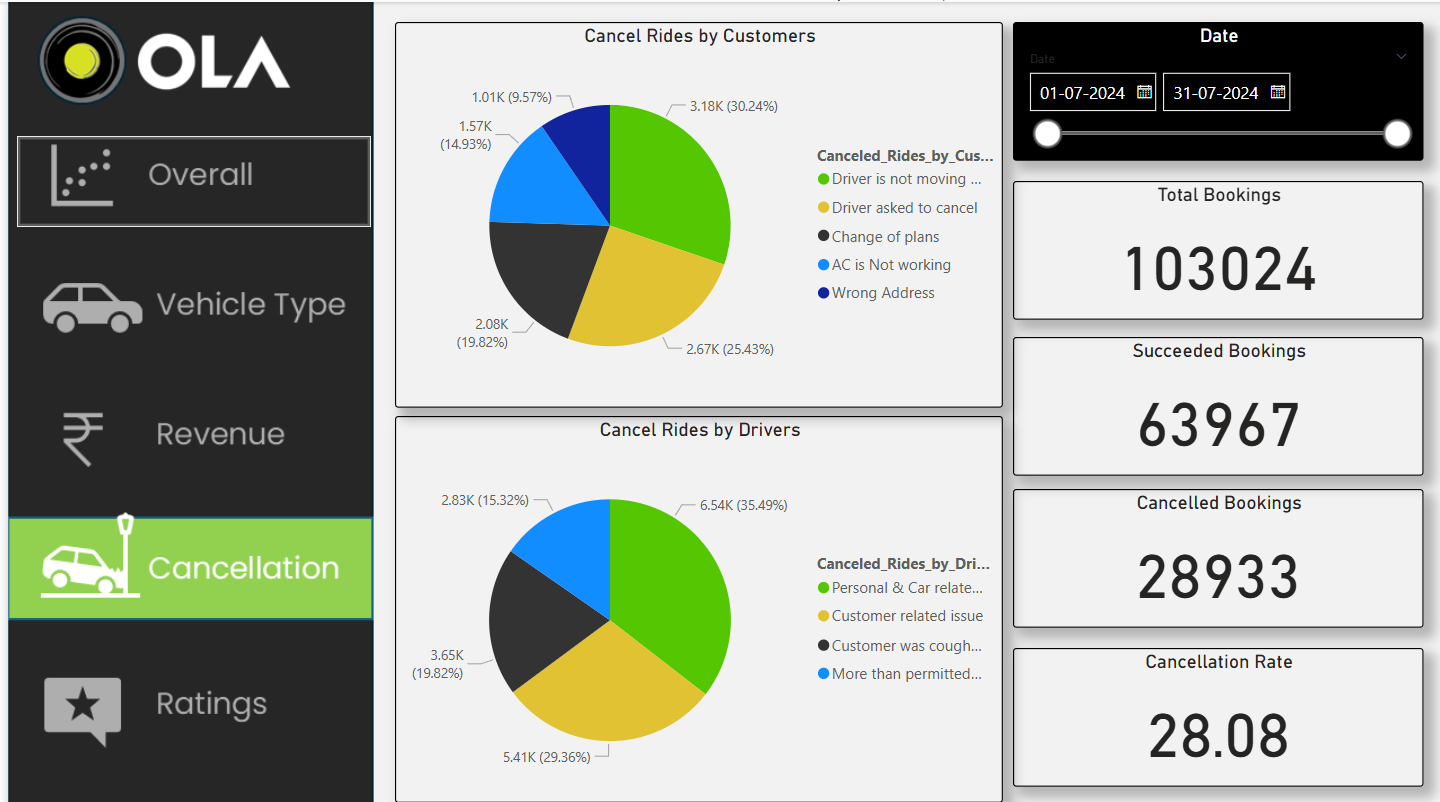

Layout of this report page (visuals, bound fields, positions):
{"tool":"powerbi","page":{"name":"Cancellation","canvas":[1280,720],"ordinal":3},"visuals":[{"type":"actionButton","box":[0,232.3,313.9,80.7],"z":0},{"type":"actionButton","box":[0,350.2,313.9,80.7],"z":1000},{"type":"actionButton","box":[6.2,587,313.9,80.7],"z":2000},{"type":"actionButton","box":[8,118.8,313.9,80.7],"z":3000},{"type":"pieChart","title":"Cancel Rides by Customers","fields":{"Y":["CountNonNull(bookings.Booking_Status)"],"Category":["bookings.Canceled_Rides_by_Customer"]},"box":[343.1,17.4,539.2,342.1],"z":3001},{"type":"pieChart","title":"Cancel Rides by Drivers","fields":{"Y":["CountNonNull(bookings.Booking_Status)"],"Category":["bookings.Canceled_Rides_by_Driver"]},"box":[343.1,367.1,539.2,343.1],"z":3002},{"type":"slicer","title":"Date","fields":{"Values":["bookings.Date"]},"box":[891.1,17.4,363.8,123.1],"z":3003},{"type":"card","title":"Succeeded Bookings","fields":{"Values":["Count(bookings.Booking_ID)"]},"box":[891.1,297.4,363.8,123.1],"z":3004},{"type":"card","title":"Total Bookings","fields":{"Values":["Count(bookings.Booking_ID)"]},"box":[891.1,159,363.8,123.1],"z":3005},{"type":"card","title":"Cancelled Bookings","fields":{"Values":["Count(bookings.Booking_ID)"]},"box":[891.1,431.4,363.8,123.1],"z":3006},{"type":"card","title":"Cancellation Rate","fields":{"Values":["bookings.CancelledPercentage"]},"box":[891.1,573,363.8,123.1],"z":3007}]}

Visuals, with their boxes in screenshot pixels (x1, y1, x2, y2), scaled from the page's 1280x720 canvas onto the 1440x802 screenshot:
actionButton: <bbox>0, 259, 353, 349</bbox>
actionButton: <bbox>0, 390, 353, 480</bbox>
actionButton: <bbox>7, 654, 360, 744</bbox>
actionButton: <bbox>9, 132, 362, 222</bbox>
"Cancel Rides by Customers" pieChart: <bbox>386, 19, 993, 400</bbox>
"Cancel Rides by Drivers" pieChart: <bbox>386, 409, 993, 791</bbox>
"Date" slicer: <bbox>1002, 19, 1412, 157</bbox>
"Succeeded Bookings" card: <bbox>1002, 331, 1412, 468</bbox>
"Total Bookings" card: <bbox>1002, 177, 1412, 314</bbox>
"Cancelled Bookings" card: <bbox>1002, 481, 1412, 618</bbox>
"Cancellation Rate" card: <bbox>1002, 638, 1412, 775</bbox>
